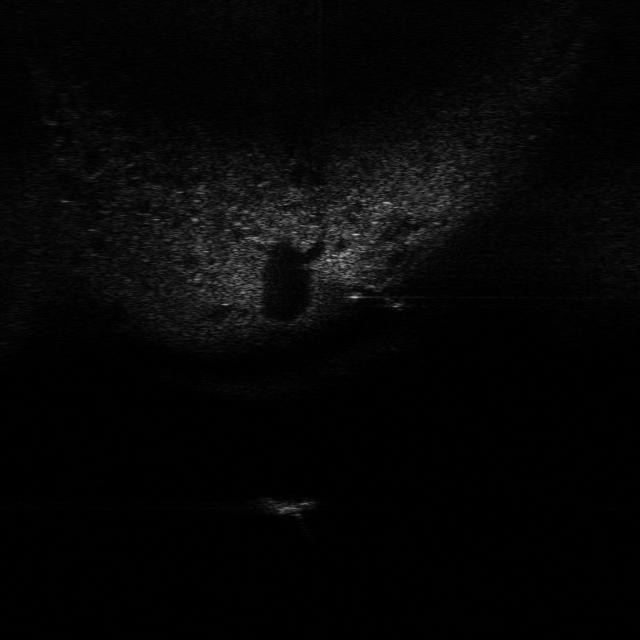cube: (260, 490, 324, 522)
